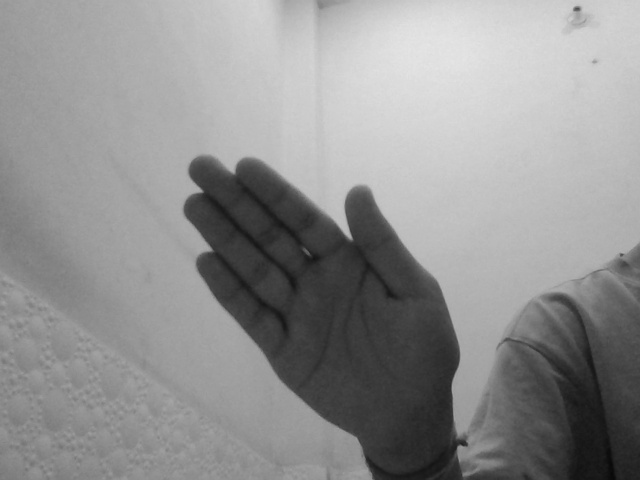Hello: (181, 151, 465, 451)
